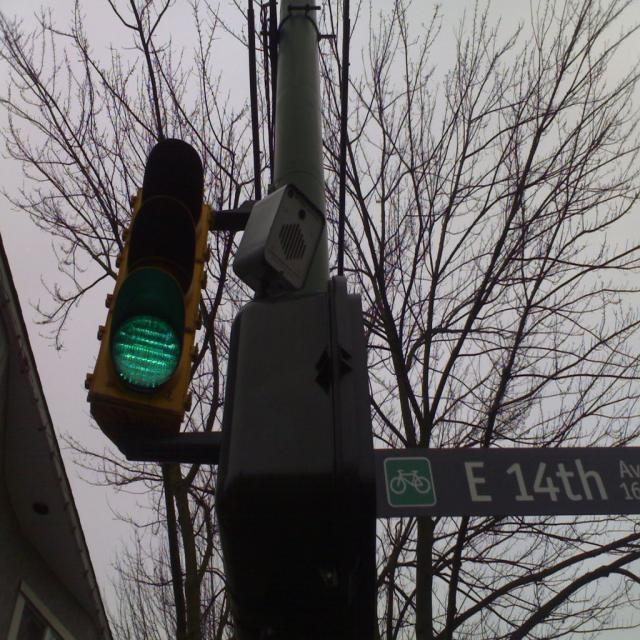traffic light: (115, 161, 199, 419)
